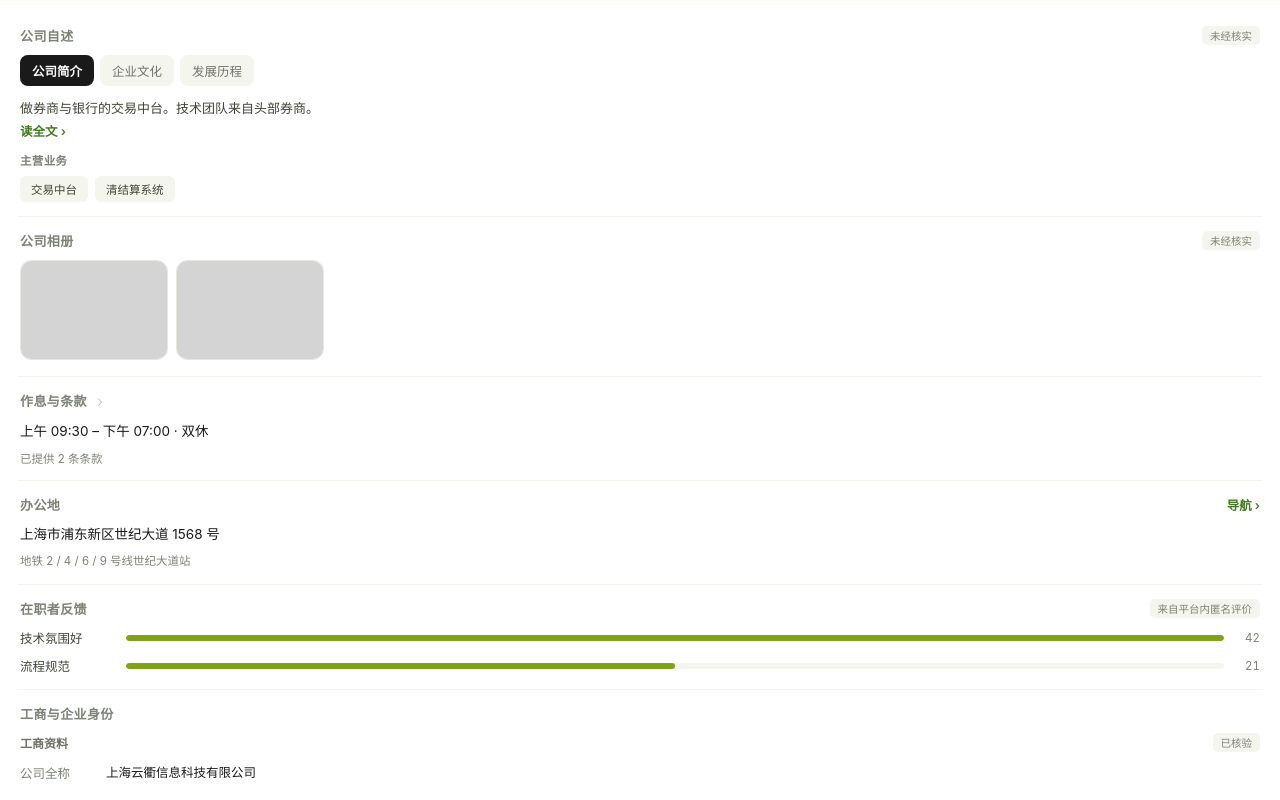
Test: 企业公开页展示 · 作息与条款 › 代理核对未知：层内显示未知占位，不生成已核计数，也不给未接入的操作指引
(page scrolled)
Click the text "作息与条款". click: (54, 400)
box: [20, 391, 87, 410]
(page scrolled)
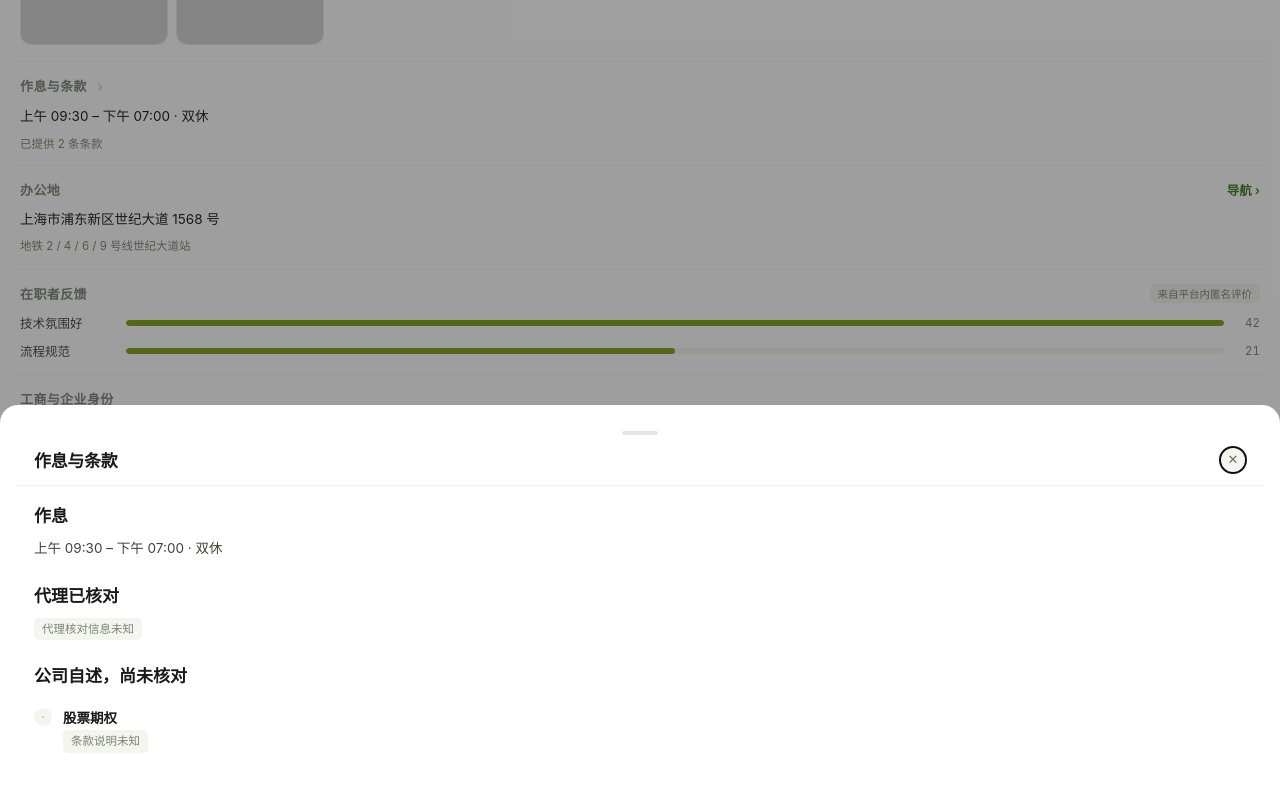
Result: the text "代理核对信息未知" is shown at [34, 618, 142, 640]
